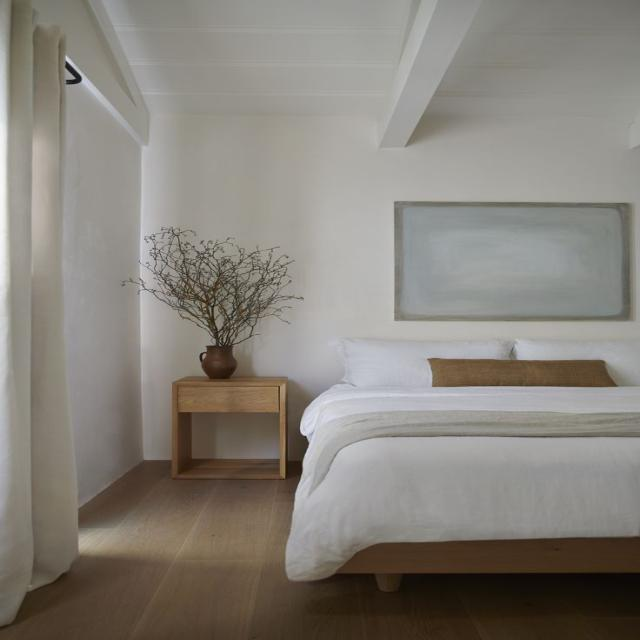obstacle: (284, 336, 639, 592), (169, 375, 288, 479)
